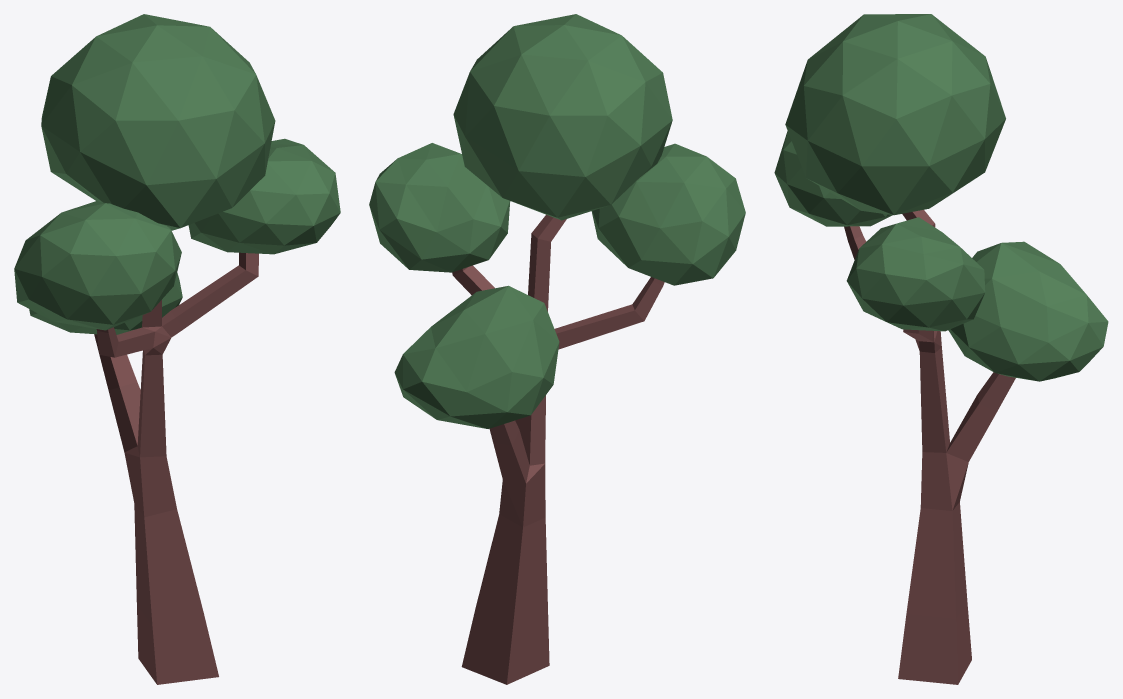
The model's file is PlainsTree(1).fbx.
3 views of the same model, side by side, from view 1: azimuth 30°, elevation 25°; view 2: azimuth 150°, elevation 25°; view 3: azimuth 270°, elevation 25° (orthographic). The views are drawn at different scales.
Visible parts, largest first — view 1: PlainsTree(1); view 2: PlainsTree(1); view 3: PlainsTree(1).
Boxes of the visible parts, box(x1,y1,x2,y2) form: PlainsTree(1): box(14, 14, 340, 684); PlainsTree(1): box(369, 14, 745, 684); PlainsTree(1): box(774, 14, 1108, 684).
Size of the model in its own units: 3.35 by 6.3 by 3.03.
